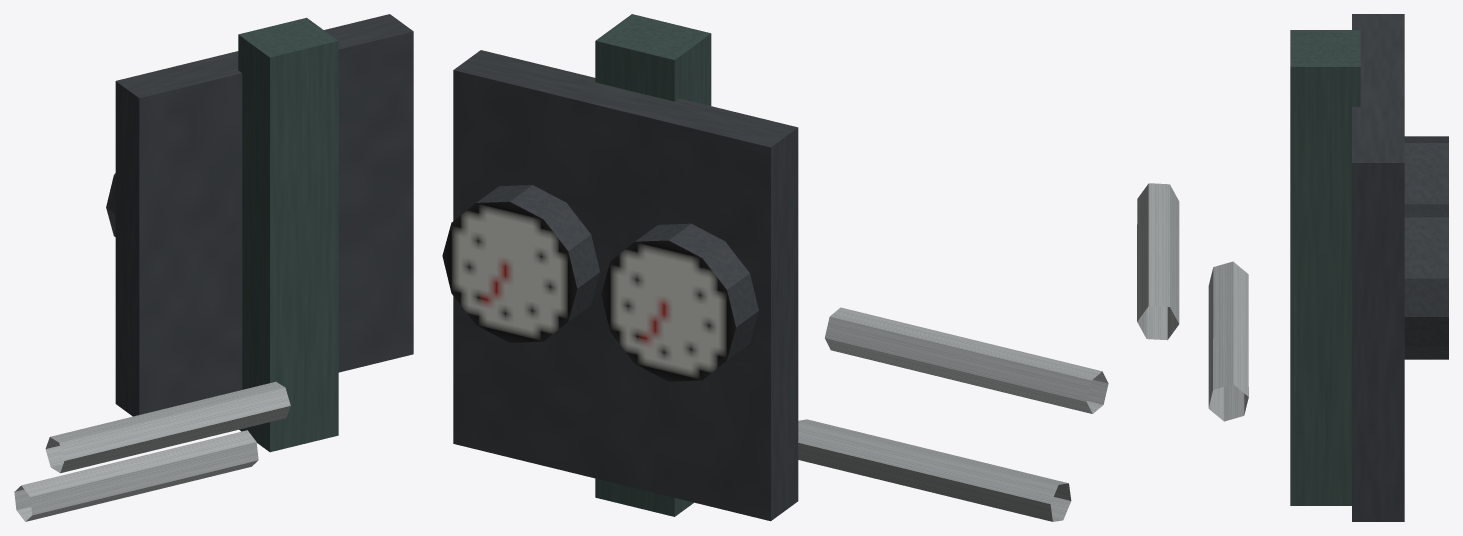
File: cell_29.obj
The picture shows the model from 3 angles, left to right: view 1: azimuth 30°, elevation 25°; view 2: azimuth 150°, elevation 25°; view 3: azimuth 270°, elevation 25°; orthographic projection. The views are drawn at different scales.
Size of the model in its own units: 0.65 by 0.55 by 0.354.
